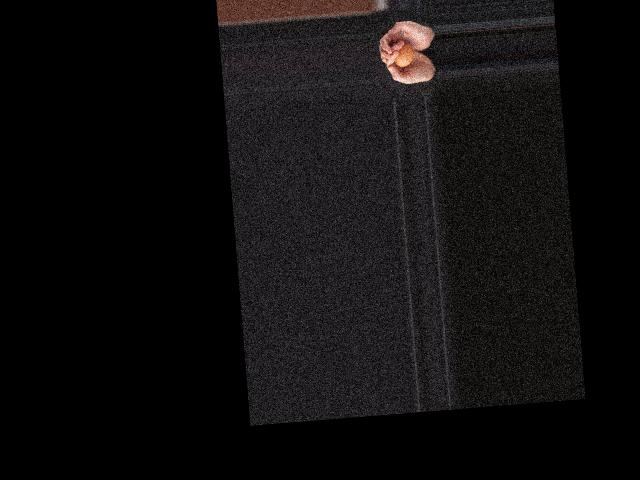egg: (393, 42, 415, 67)
